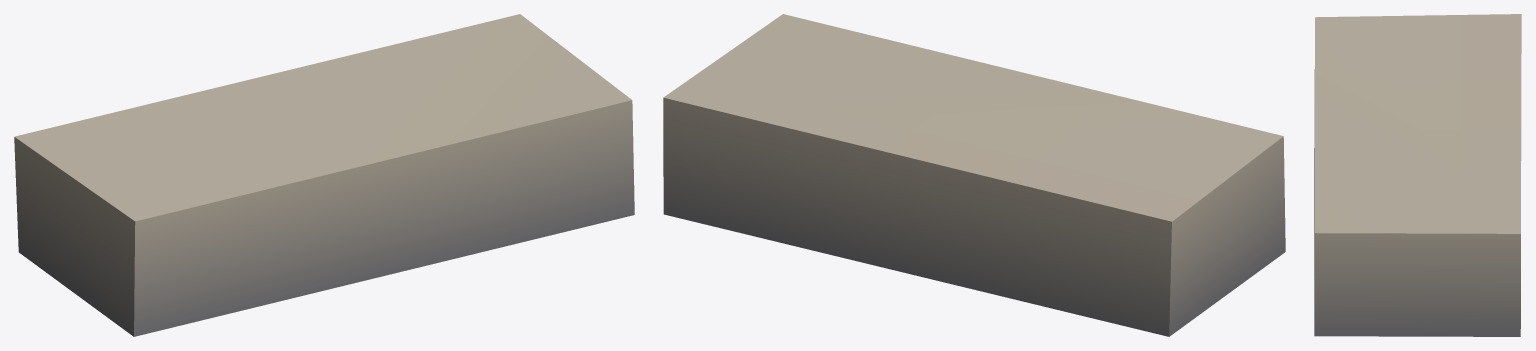
Rendered from stair_step.glb.
3 views of the same model, side by side, from view 1: azimuth 30°, elevation 25°; view 2: azimuth 150°, elevation 25°; view 3: azimuth 270°, elevation 25° (orthographic). The views are drawn at different scales.
Visible parts, largest first — view 1: Step; view 2: Step; view 3: Step.
Part boxes in pixels (bbox=[...]): Step: bbox=[14, 14, 634, 336]; Step: bbox=[663, 14, 1285, 336]; Step: bbox=[1314, 14, 1521, 336].
Size of the model in its own units: 1.01 by 0.2213 by 0.4015.
